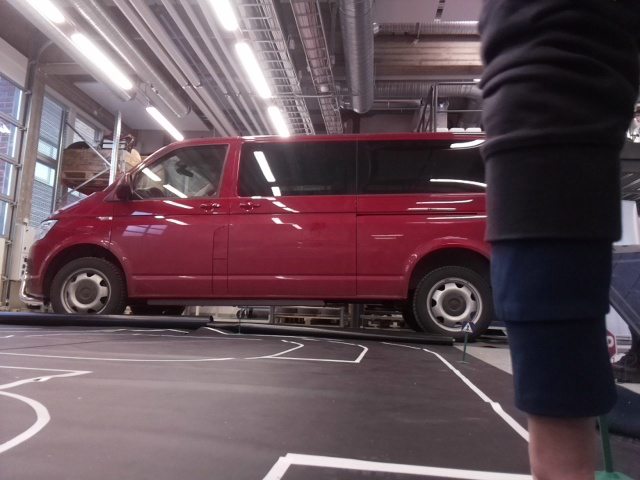Crosswalk: (460, 321, 473, 335)
